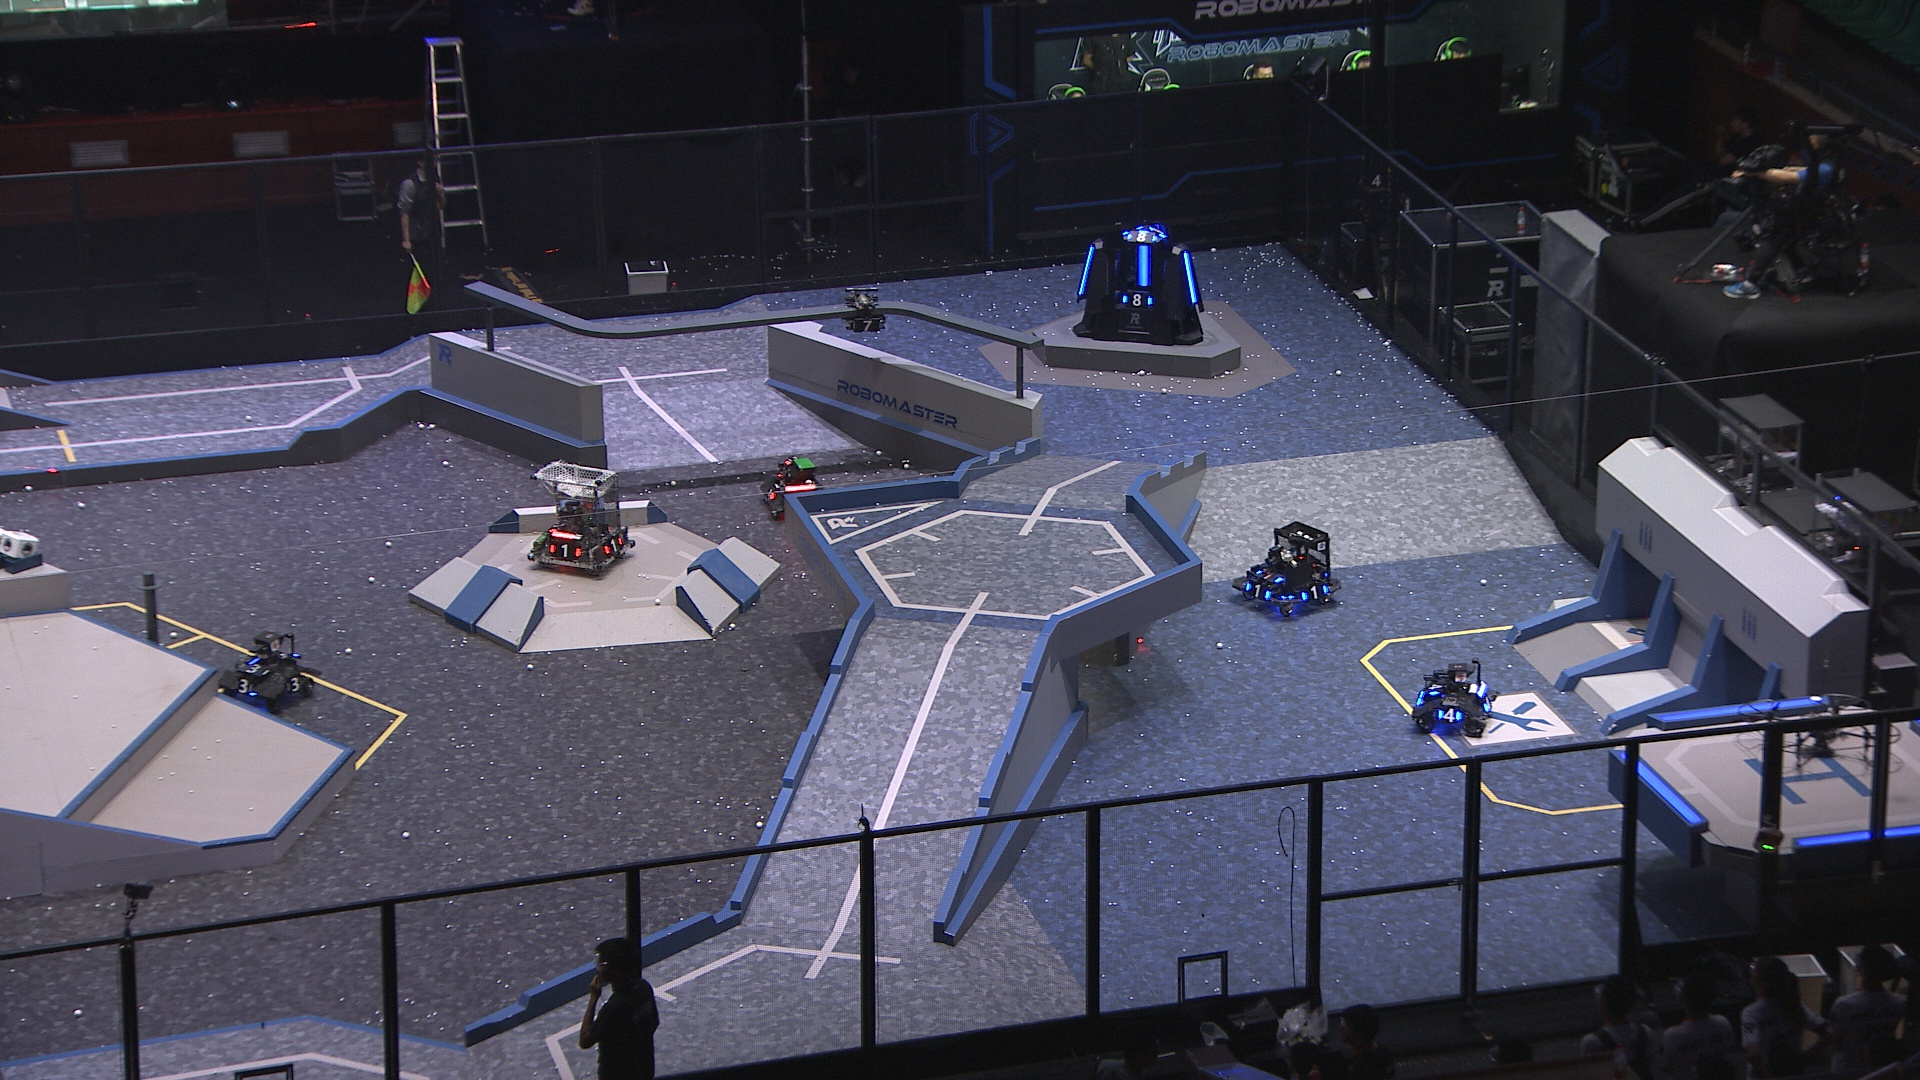armor: (1077, 244, 1096, 299), (1182, 249, 1199, 305), (1135, 243, 1153, 289), (1253, 567, 1287, 585), (1300, 583, 1332, 603), (851, 316, 884, 334), (549, 542, 582, 559), (237, 661, 269, 678), (1244, 582, 1273, 600), (231, 676, 257, 695), (1121, 294, 1154, 309), (1436, 705, 1462, 723), (603, 534, 624, 555), (1126, 229, 1159, 243), (285, 675, 305, 694), (1481, 694, 1495, 712), (1427, 680, 1444, 695), (765, 485, 775, 500)
base: (1069, 223, 1209, 344)
car: (524, 458, 636, 576), (1229, 518, 1342, 621), (214, 632, 318, 717), (1410, 654, 1501, 738), (757, 454, 825, 518)
watcher: (840, 286, 885, 334)
